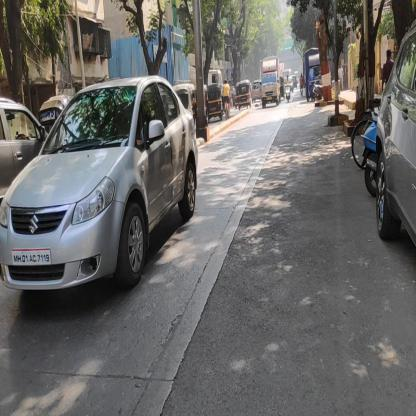license: (11, 249, 51, 264)
